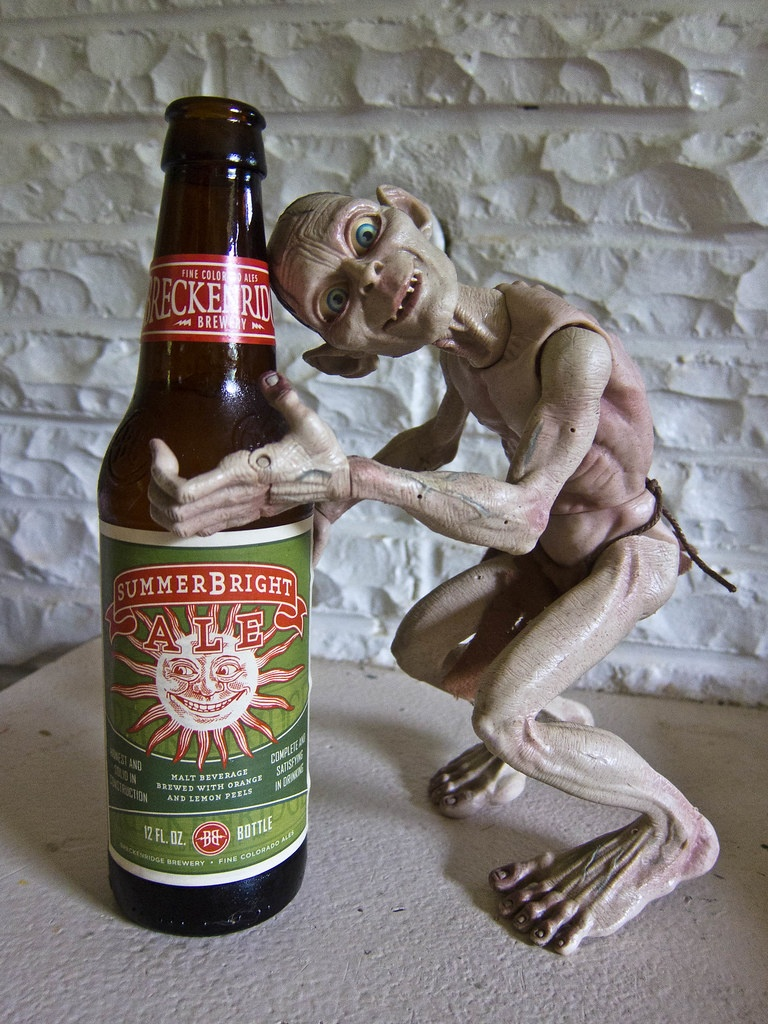beerBottle: (101, 88, 314, 919)
